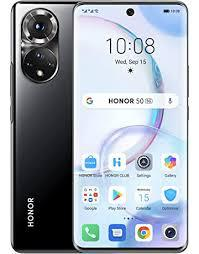Smartphone: (74, 3, 189, 251), (13, 6, 75, 247)
